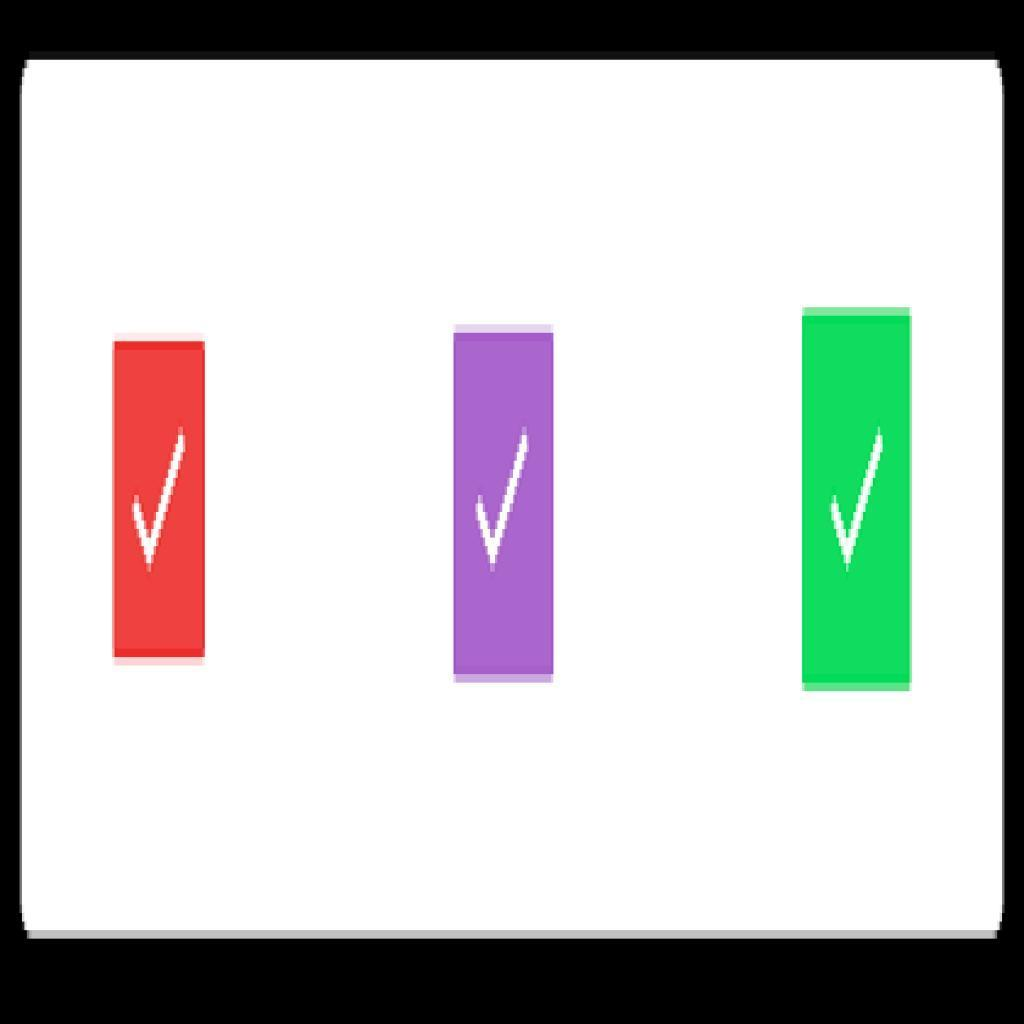checkbox: (801, 314, 913, 686), (455, 333, 554, 679), (114, 342, 208, 660)
